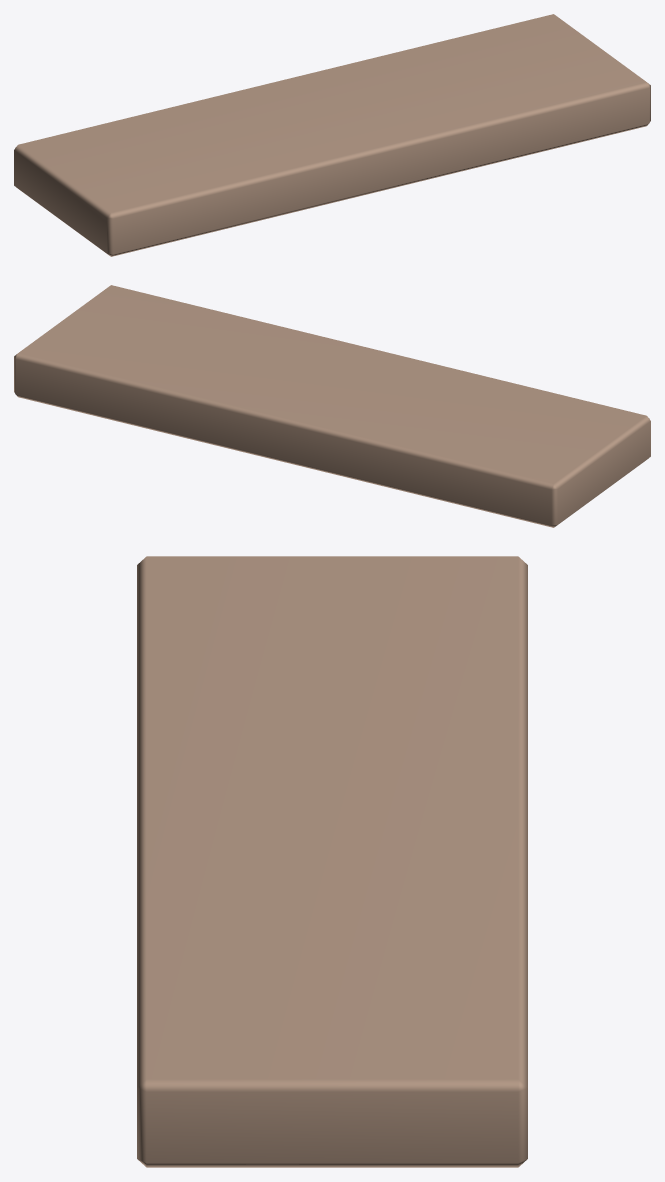
The model's file is Shelf_9.glb.
3 views of the same model, one above another, from view 1: azimuth 30°, elevation 25°; view 2: azimuth 150°, elevation 25°; view 3: azimuth 270°, elevation 25° (orthographic). The views are drawn at different scales.
Visible parts, largest first — view 1: Shelf_9; view 2: Shelf_9; view 3: Shelf_9.
Boxes of the visible parts, <box> form: Shelf_9: <box>14,14,650,256</box>; Shelf_9: <box>14,285,650,527</box>; Shelf_9: <box>137,556,527,1167</box>.
Size of the model in its own units: 2.31 by 0.1796 by 0.7198.
Materials: 1 (1 with a texture image).
